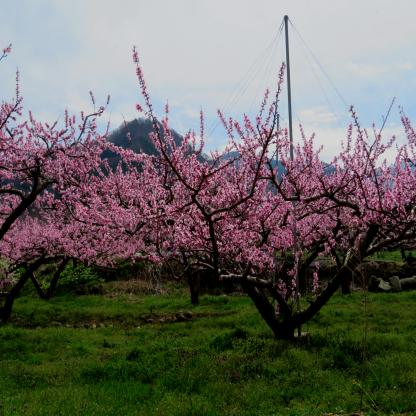Momo: (95, 39, 416, 343), (0, 31, 131, 284), (284, 92, 416, 292), (122, 113, 270, 281)
